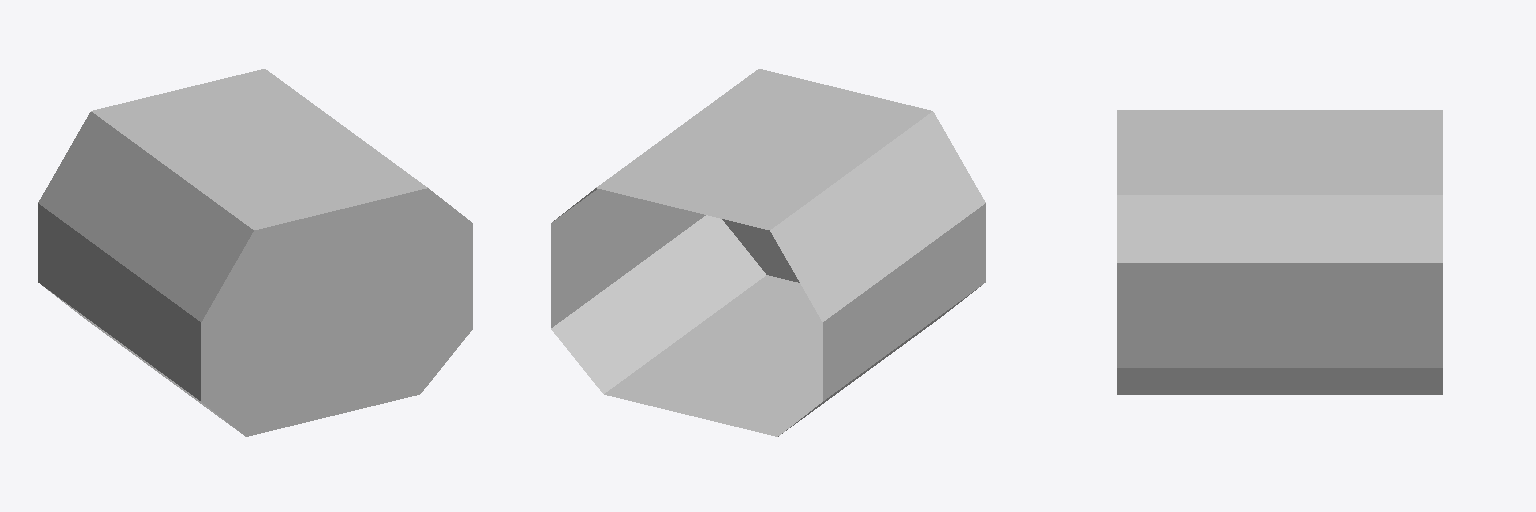
Rendered from building-22.obj.
3 views of the same model, side by side, from view 1: azimuth 30°, elevation 25°; view 2: azimuth 150°, elevation 25°; view 3: azimuth 270°, elevation 25° (orthographic).
Bounding box in the file's own units: 10.78 × 7.75 × 11.21.